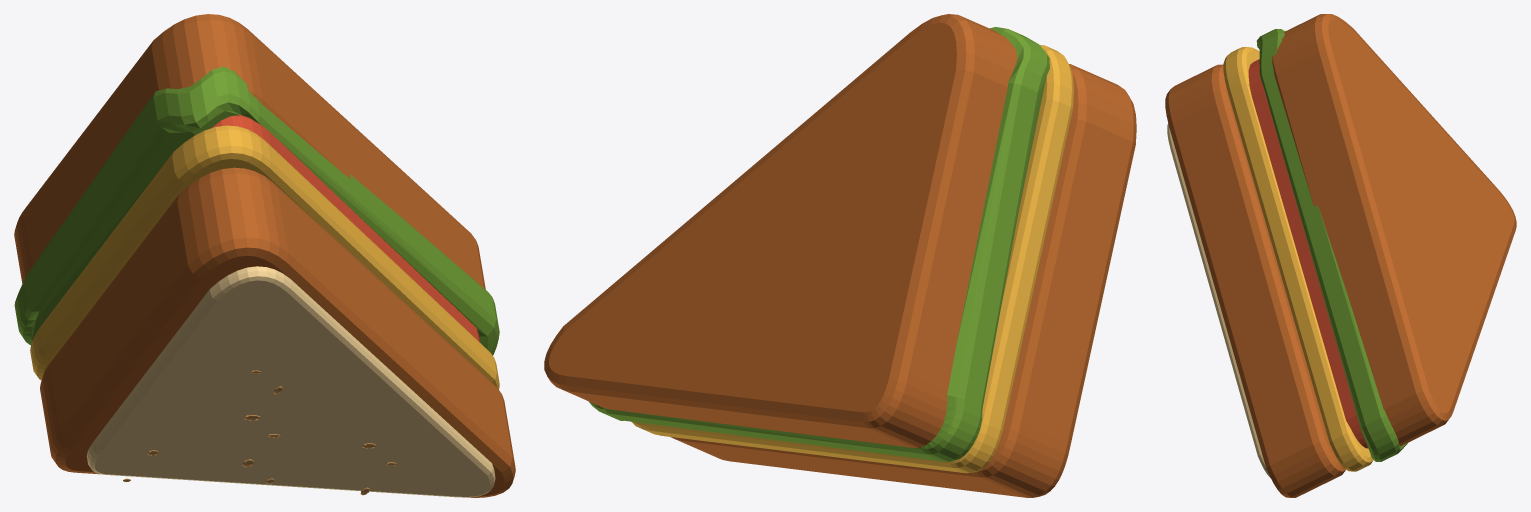
Rendered from sandwich.glb.
3 views of the same model, side by side, from view 1: azimuth 30°, elevation 25°; view 2: azimuth 150°, elevation 25°; view 3: azimuth 270°, elevation 25° (orthographic). The views are drawn at different scales.
Parts seen in each view (by area): view 1: sandwich; view 2: sandwich; view 3: sandwich.
Part boxes in pixels (box(x1,y1,x2,y2)): sandwich: box(14, 14, 515, 497); sandwich: box(544, 14, 1136, 497); sandwich: box(1165, 14, 1516, 497).
Bounding box in the file's own units: 1.01 × 1.07 × 0.8793.
